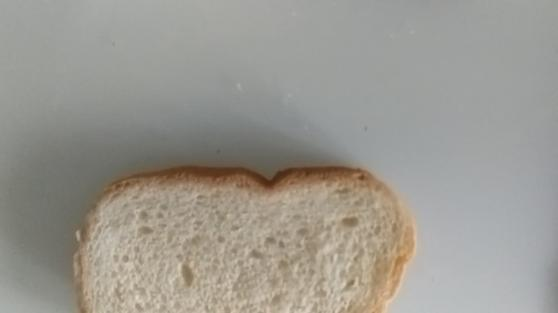white_bread: (75, 161, 424, 313)
